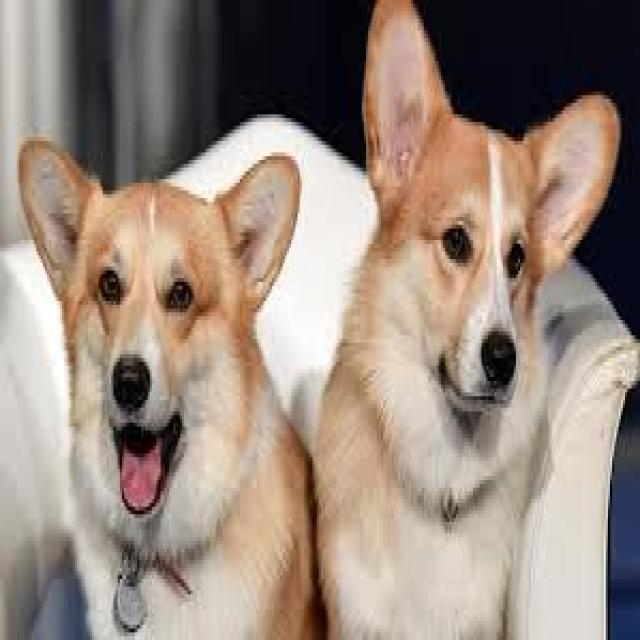CORGI: (319, 0, 628, 640), (25, 99, 322, 640)
